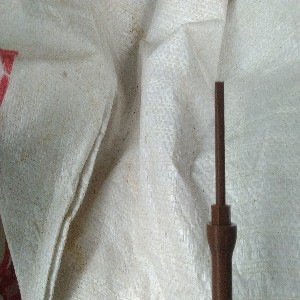obeng: (206, 80, 237, 300)
